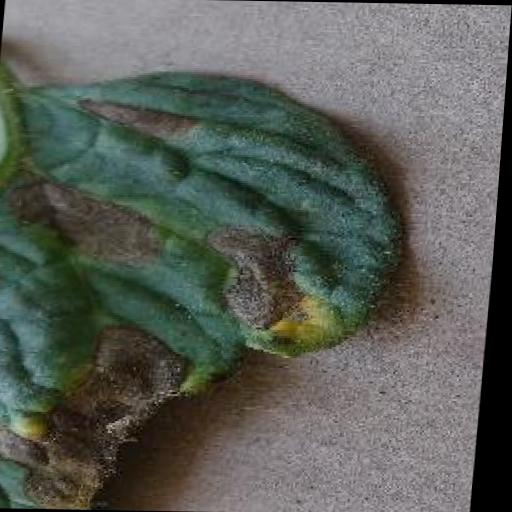Early Blight: (0, 62, 417, 512)
